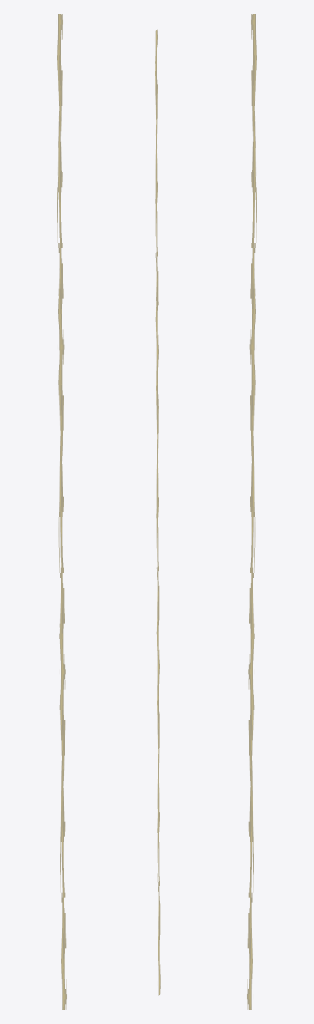
The model's file is boss_back_sword_lightning.glb.
3 renders of one model, left to right at view 1: azimuth 90°, elevation 25°; view 2: azimuth 150°, elevation 25°; view 3: azimuth 270°, elevation 25°, orthographic. The views are drawn at different scales.
Visible parts, largest first — view 1: sword_lightning; view 2: sword_lightning; view 3: sword_lightning.
Boxes of the visible parts, x1,y1,x2,y2 form: sword_lightning: (57, 14, 66, 1009); sword_lightning: (155, 30, 160, 994); sword_lightning: (247, 14, 256, 1009).
Bounding box in the file's own units: 0.1218 × 100 × 8.35.
1 material, 1 textured.
